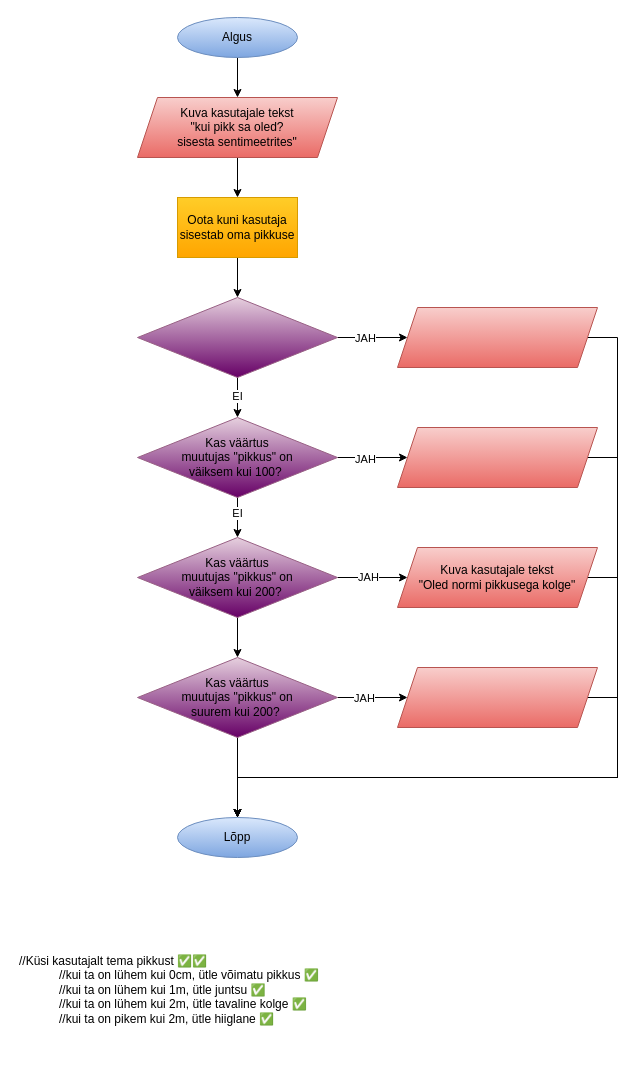
This 643x1065 diagram has some shape labels left out. Here are the shapes that lost their labels. From the top down, the centre of each, then its label:
[237,337]: Kas väärtus muutujas "pikkus" on väiksem kui 0?
[497,337]: Kuva kasutajale tekst "Selline pikkus on võimatu"
[497,457]: Kuva kasutajale tekst "Oled juntsu, hit the gym"
[497,697]: Kuva kasutajale tekst "Ossaraks, vaat kus hiiglane!"
